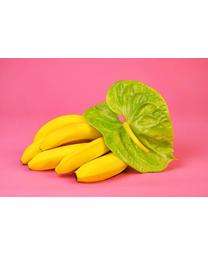banana: (20, 111, 135, 185)
